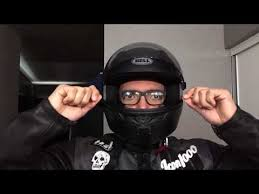com_capacete: (98, 40, 188, 151)
